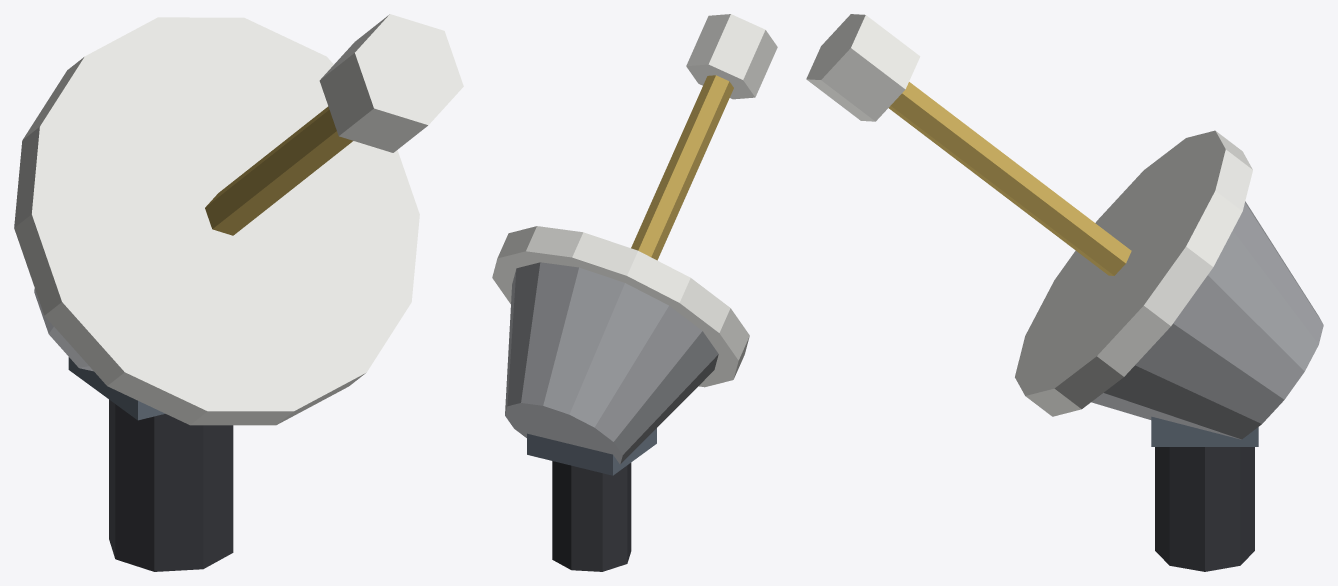
File: Com_Dish_S.fbx
3 views of the same model, side by side, from view 1: azimuth 30°, elevation 25°; view 2: azimuth 150°, elevation 25°; view 3: azimuth 270°, elevation 25° (orthographic). The views are drawn at different scales.
Parts seen in each view (by area): view 1: Com_Dish_S; view 2: Com_Dish_S; view 3: Com_Dish_S.
Boxes of the visible parts, bbox=[...] form: Com_Dish_S: bbox=[14, 14, 463, 571]; Com_Dish_S: bbox=[492, 14, 777, 571]; Com_Dish_S: bbox=[806, 14, 1323, 571].
Bounding box in the file's own units: 0.8969 × 1.66 × 1.45.
Materials: 1 (1 with a texture image).
